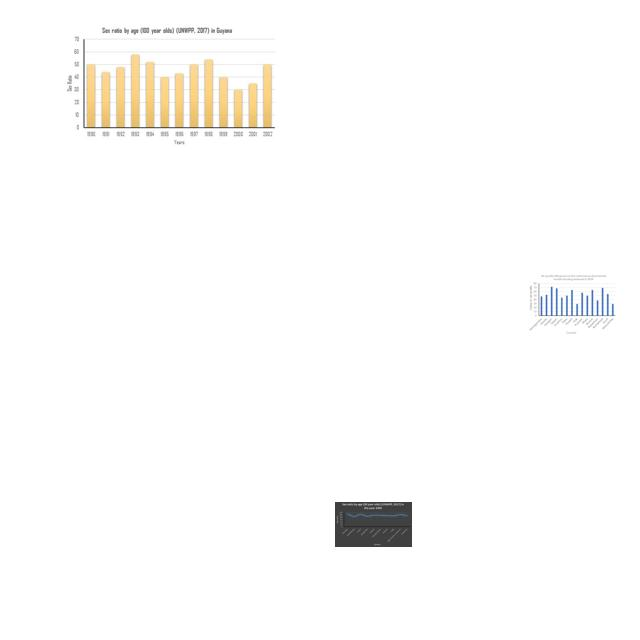Graph: (64, 24, 278, 148), (528, 273, 617, 336), (335, 502, 412, 547)
